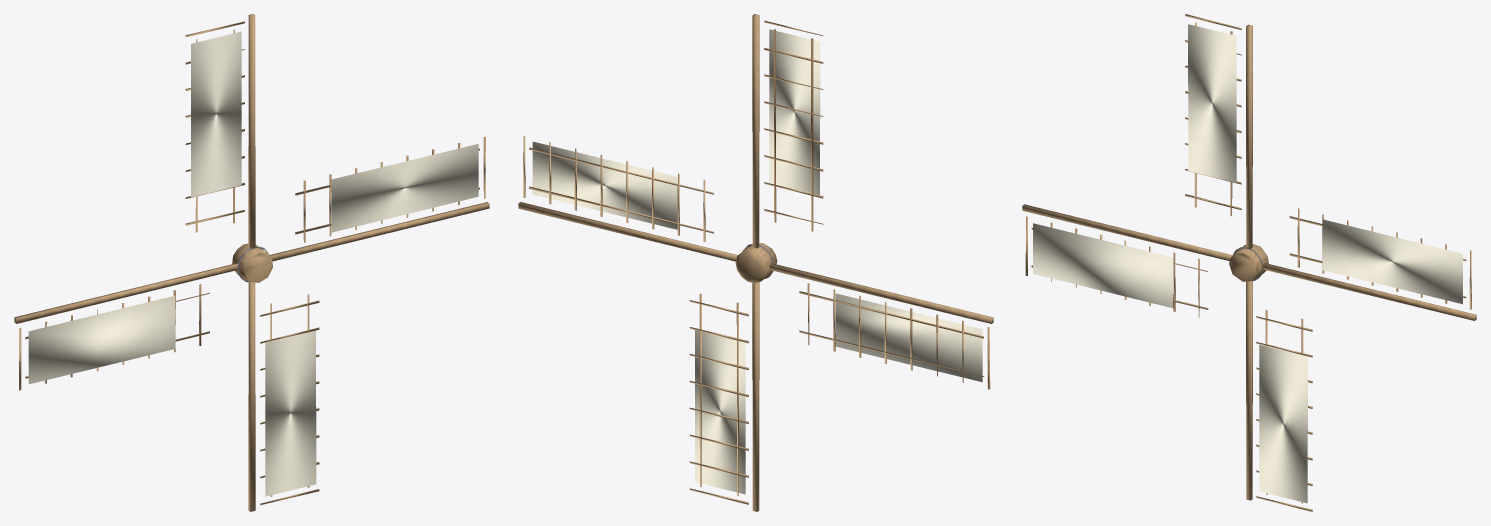
The model's file is windmill_sails_lod1.gltf.
3 views of the same model, side by side, from view 1: azimuth 30°, elevation 25°; view 2: azimuth 150°, elevation 25°; view 3: azimuth 330°, elevation 25° (orthographic). The views are drawn at different scales.
Parts seen in each view (by area): view 1: windmill_sails_LOD1; view 2: windmill_sails_LOD1; view 3: windmill_sails_LOD1.
Part boxes in pixels (bbox=[...]): windmill_sails_LOD1: bbox=[14, 14, 489, 511]; windmill_sails_LOD1: bbox=[518, 14, 993, 511]; windmill_sails_LOD1: bbox=[1022, 14, 1476, 511].
Bounding box in the file's own units: 13.99 × 13.99 × 0.7188.
Materials: 1 (1 with a texture image).
